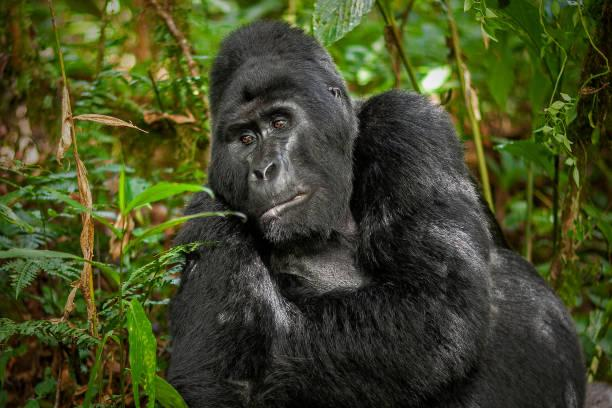goriile_montagne: (162, 0, 605, 408)
